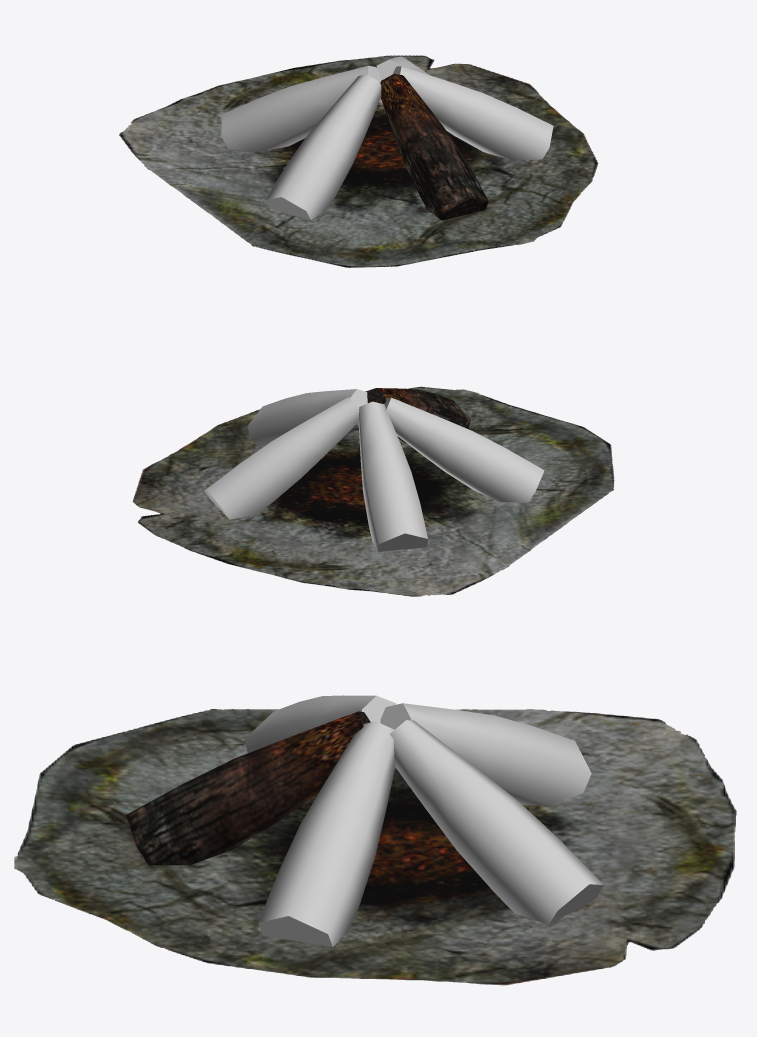
File: wood.FBX
3 renders of one model, top to bottom at view 1: azimuth 30°, elevation 25°; view 2: azimuth 150°, elevation 25°; view 3: azimuth 270°, elevation 25°, orthographic. The views are drawn at different scales.
Parts seen in each view (by area): view 1: Plane01, Cylinder02, Cylinder01, Cylinder04, Cylinder03, Cylinder05; view 2: Plane01, Cylinder02, Cylinder05, Cylinder03, Cylinder04, Cylinder01; view 3: Plane01, Cylinder05, Cylinder04, Cylinder01, Cylinder03, Cylinder02.
Part boxes in pixels (x1=…): Plane01: x1=119, y1=55, x2=598, y2=267; Cylinder02: x1=265, y1=74, x2=381, y2=219; Cylinder01: x1=380, y1=73, x2=488, y2=220; Cylinder04: x1=393, y1=66, x2=553, y2=160; Cylinder03: x1=221, y1=65, x2=381, y2=152; Cylinder05: x1=376, y1=56, x2=428, y2=103; Plane01: x1=132, y1=386, x2=614, y2=596; Cylinder02: x1=384, y1=397, x2=544, y2=502; Cylinder05: x1=204, y1=397, x2=359, y2=519; Cylinder03: x1=358, y1=401, x2=427, y2=551; Cylinder04: x1=247, y1=389, x2=367, y2=446; Cylinder01: x1=365, y1=388, x2=470, y2=443; Plane01: x1=14, y1=709, x2=736, y2=985; Cylinder05: x1=390, y1=720, x2=604, y2=924; Cylinder04: x1=258, y1=721, x2=395, y2=947; Cylinder01: x1=126, y1=711, x2=370, y2=865; Cylinder03: x1=380, y1=703, x2=591, y2=805; Cylinder02: x1=244, y1=695, x2=396, y2=752.
Bounding box in the file's own units: 19.29 × 4.28 × 16.47.
